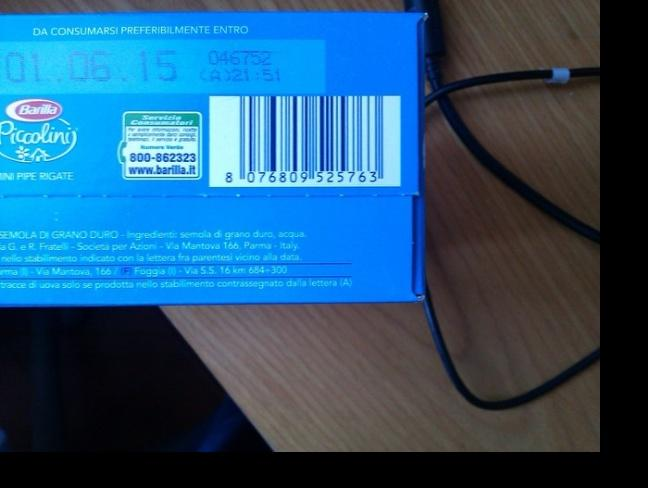Barcode: (220, 97, 388, 186)
